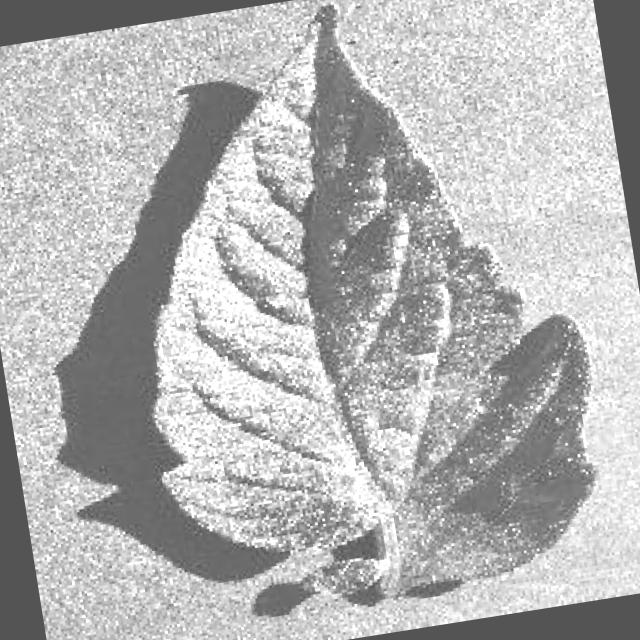healthy: (152, 9, 604, 598)
